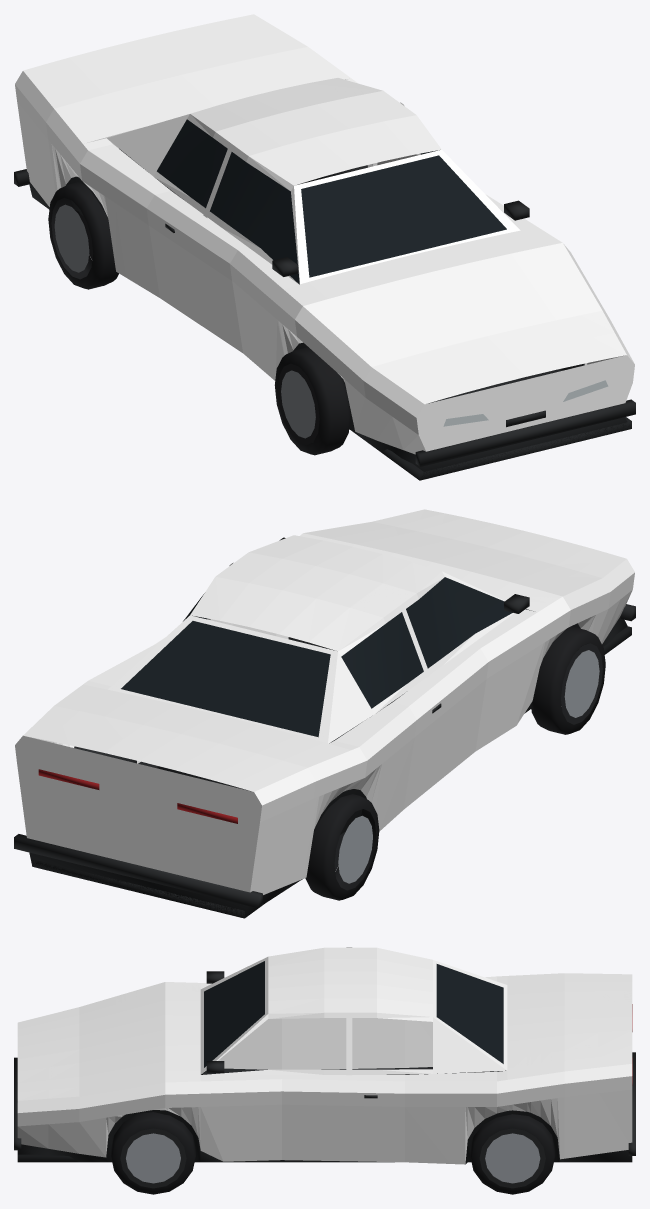
Rendered from wexmoor_moenda.glb.
The picture shows the model from 3 angles, top to bottom: view 1: azimuth 30°, elevation 25°; view 2: azimuth 150°, elevation 25°; view 3: azimuth 270°, elevation 25°; orthographic projection. The views are drawn at different scales.
Visible parts, largest first — view 1: Body_Paint, Body_Details, Mount_FrontLeft_Wheel_Details, Mount_RearLeft_Wheel_Details; view 2: Body_Paint, Body_Details, Mount_FrontLeft_Wheel_Details, Mount_RearLeft_Wheel_Details; view 3: Body_Paint, Body_Details, Mount_FrontRight_Wheel_Details, Mount_RearRight_Wheel_Details.
Boxes of the visible parts, left/top/right/bottom form: Body_Paint: left=15, top=14, right=634, bottom=454; Body_Details: left=14, top=119, right=635, bottom=480; Mount_FrontLeft_Wheel_Details: left=274, top=347, right=350, bottom=455; Mount_RearLeft_Wheel_Details: left=48, top=182, right=118, bottom=289; Body_Paint: left=15, top=509, right=634, bottom=894; Body_Details: left=14, top=537, right=635, bottom=918; Mount_FrontLeft_Wheel_Details: left=531, top=626, right=605, bottom=734; Mount_RearLeft_Wheel_Details: left=305, top=794, right=379, bottom=900; Body_Paint: left=17, top=947, right=632, bottom=1164; Body_Details: left=14, top=961, right=635, bottom=1164; Mount_FrontRight_Wheel_Details: left=111, top=1112, right=195, bottom=1194; Mount_RearRight_Wheel_Details: left=470, top=1114, right=555, bottom=1194.
Bounding box in the file's own units: 1.95 × 1.34 × 4.61.
2 materials, 1 textured.
